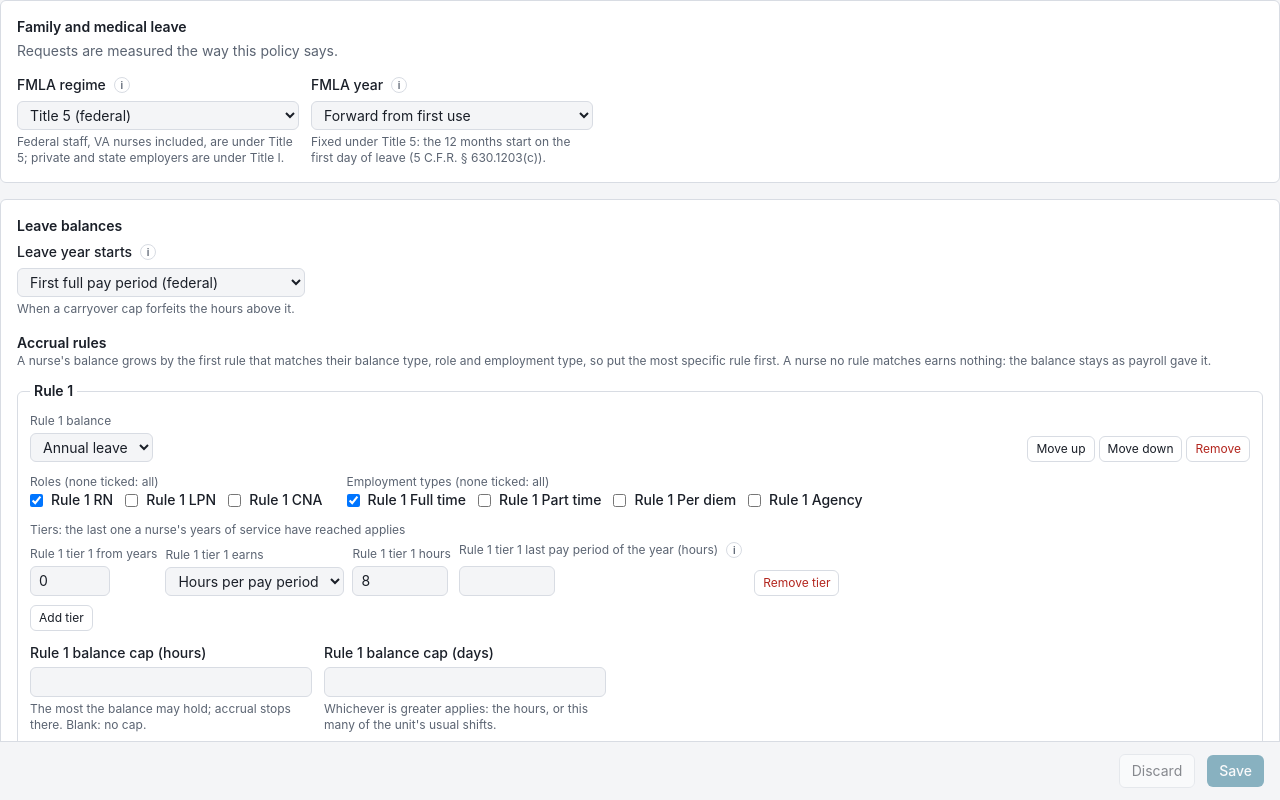
Test: Settings › Leave › shows the validator’s own words when the policy is refused
The image size is (1280, 800).
Replace the text in the number field labelled "Rule 1 tier 1 from years" with "2" at [70, 581], box [30, 566, 110, 596]
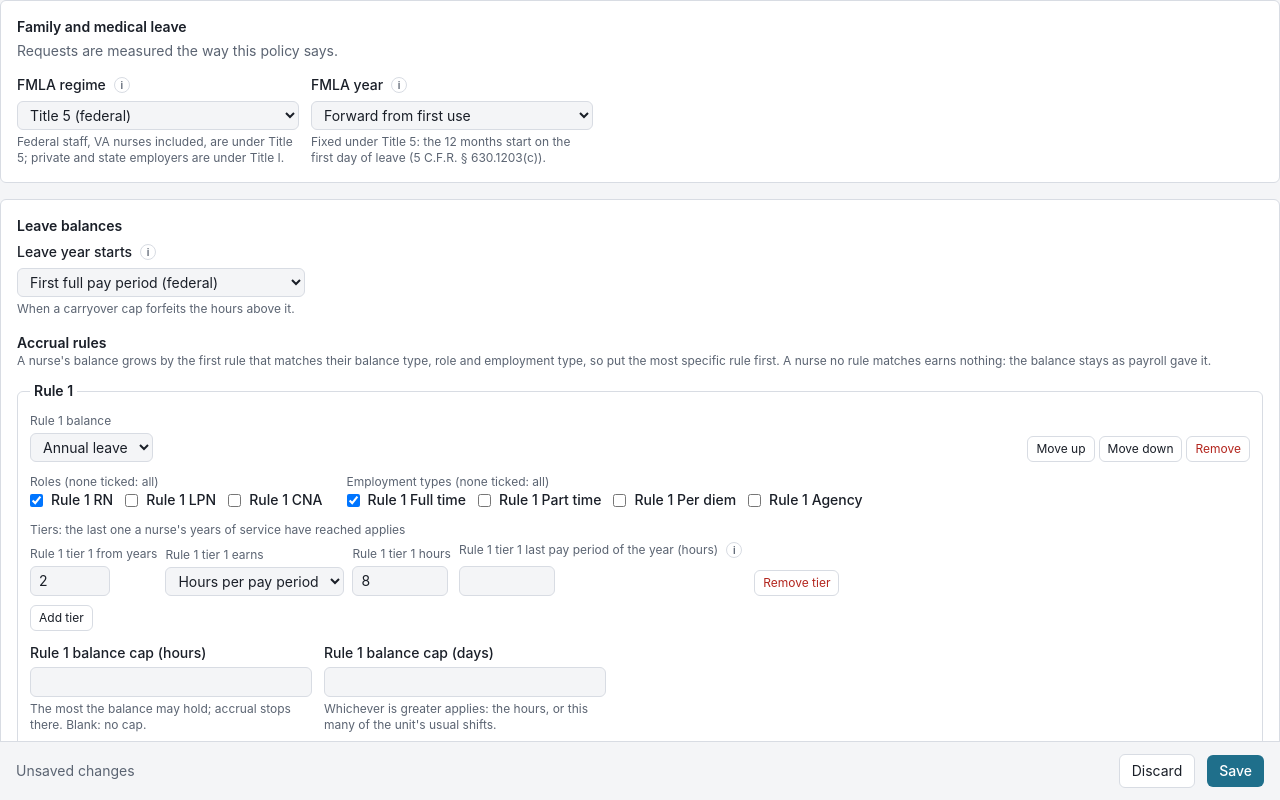
Click the button "Save" at [1236, 771], box [1207, 755, 1264, 787]
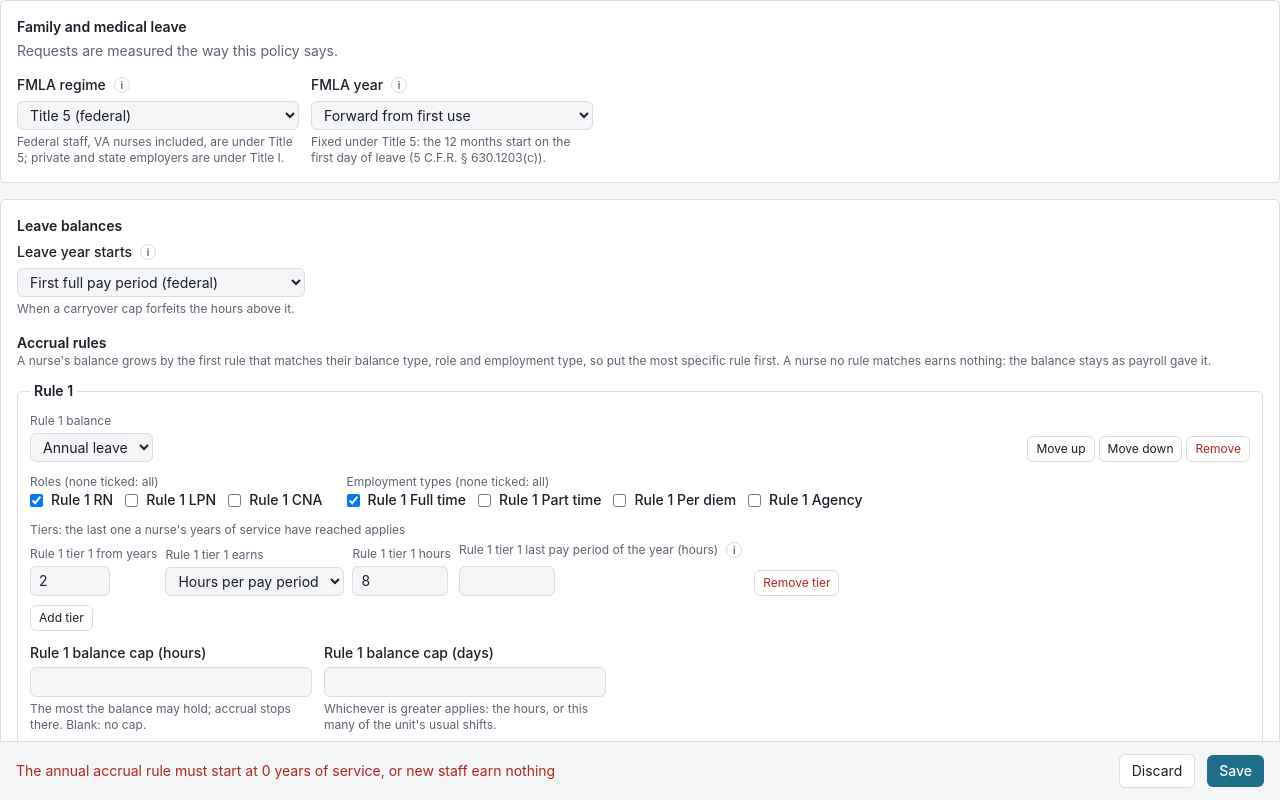
Check: the text "must start at 0 years of service" is shown, box [16, 762, 555, 779]
